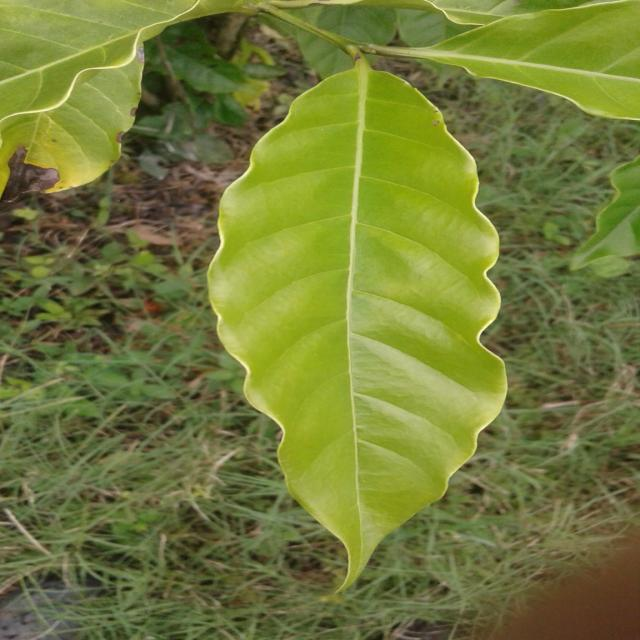Sanas: (205, 59, 509, 588)
